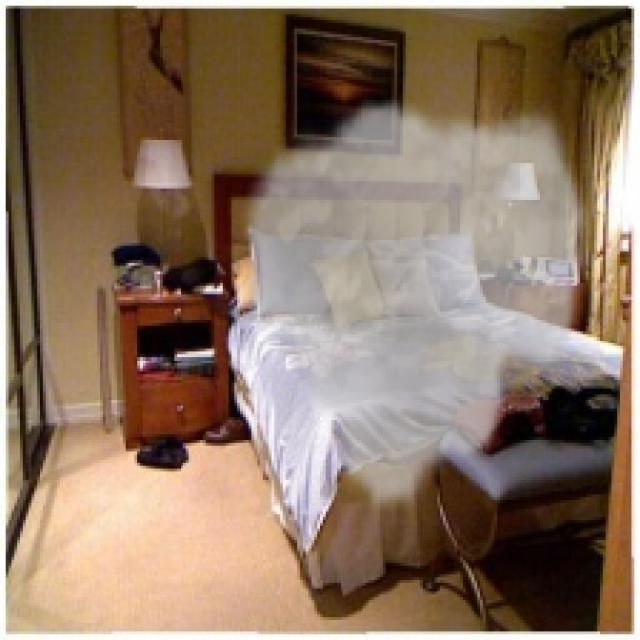Smoke: (232, 94, 594, 517)
